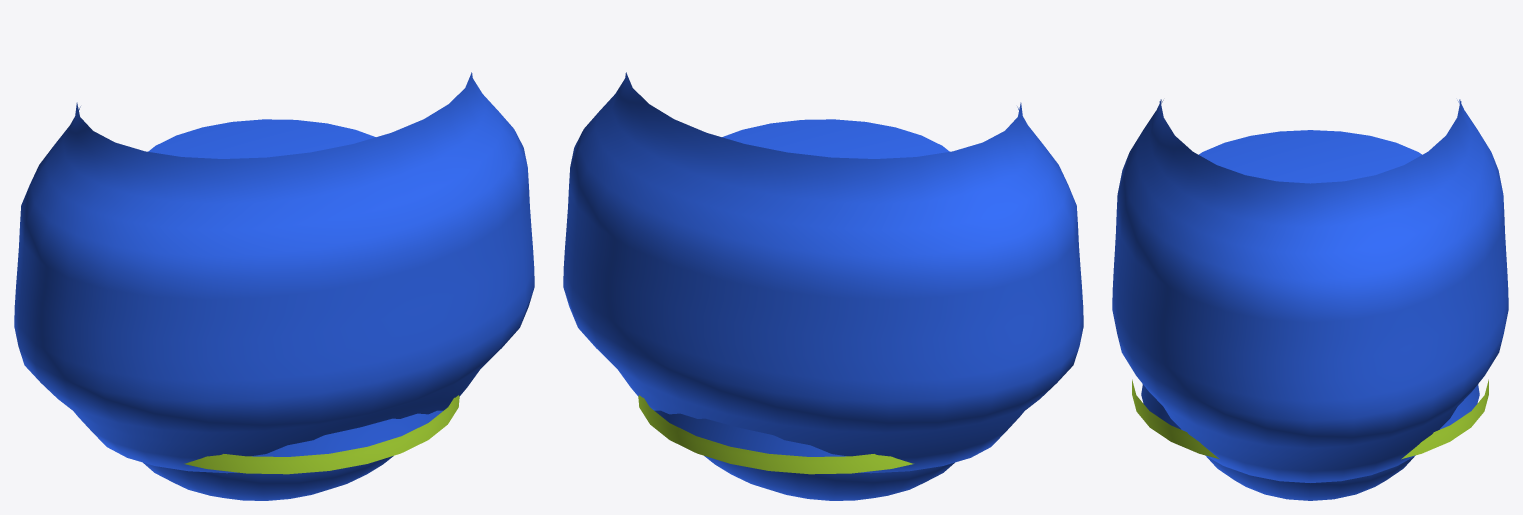
The model's file is bottom_split_female.glb.
The picture shows the model from 3 angles, left to right: view 1: azimuth 30°, elevation 25°; view 2: azimuth 150°, elevation 25°; view 3: azimuth 270°, elevation 25°; orthographic projection. The views are drawn at different scales.
Parts seen in each view (by area): view 1: pants, pant_leg, crotch, hem; view 2: pants, pant_leg, crotch, hem; view 3: pants, pant_leg, crotch, hem.
Boxes of the visible parts, <box> form: pants: <box>14,72,534,473</box>; pant_leg: <box>148,119,443,456</box>; crotch: <box>143,456,393,500</box>; hem: <box>184,395,459,474</box>; pants: <box>563,72,1083,473</box>; pant_leg: <box>654,119,949,456</box>; crotch: <box>704,456,954,500</box>; hem: <box>638,395,913,474</box>; pants: <box>1112,99,1508,482</box>; pant_leg: <box>1141,130,1479,429</box>; crotch: <box>1206,456,1414,500</box>; hem: <box>1132,379,1488,459</box>.
Size of the model in its own units: 0.348 by 0.275 by 0.261.
